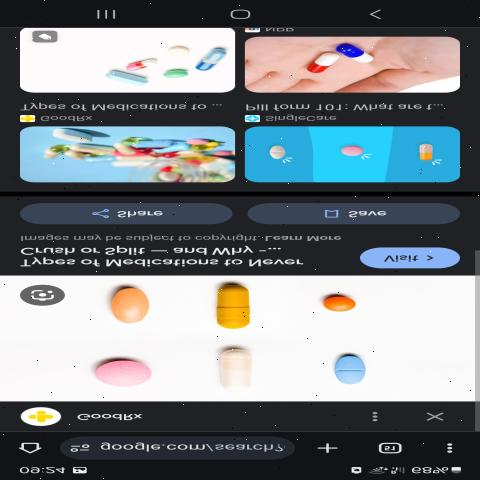Pill: (76, 349, 175, 390), (202, 341, 273, 396), (100, 280, 176, 328), (198, 278, 260, 333), (320, 349, 397, 389), (404, 136, 446, 173), (331, 141, 374, 165), (258, 138, 295, 163)
